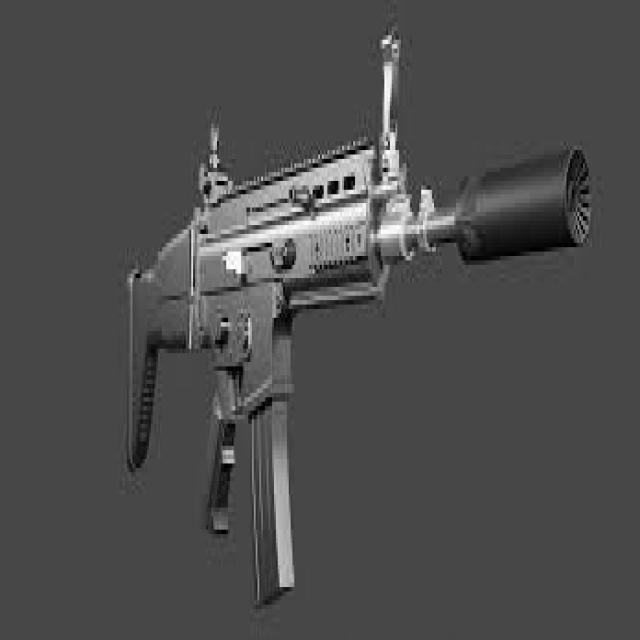Gun: (81, 16, 611, 581)
